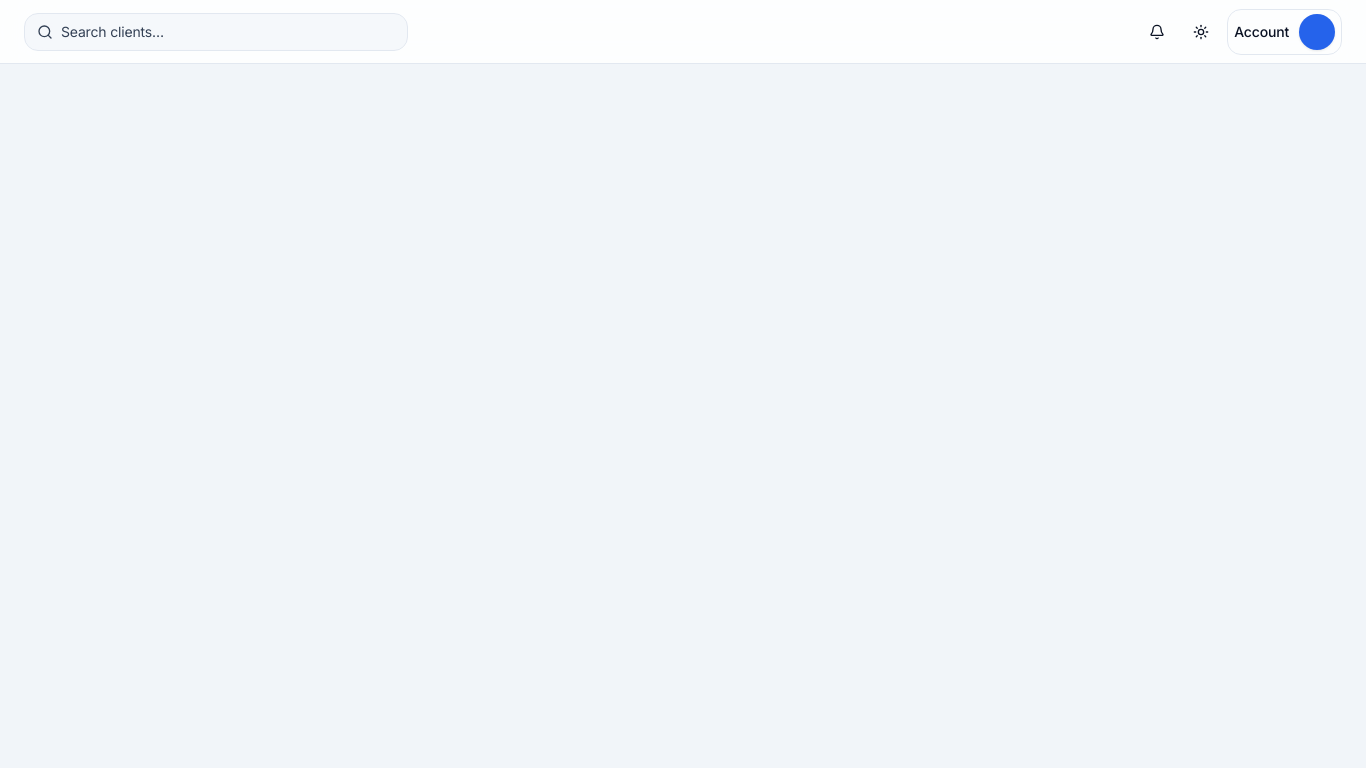
Test: mobile Account control › truthfully handles an absent email () without inventing an identity
Click the button "Account" at (1285, 32), box [1227, 8, 1342, 54]
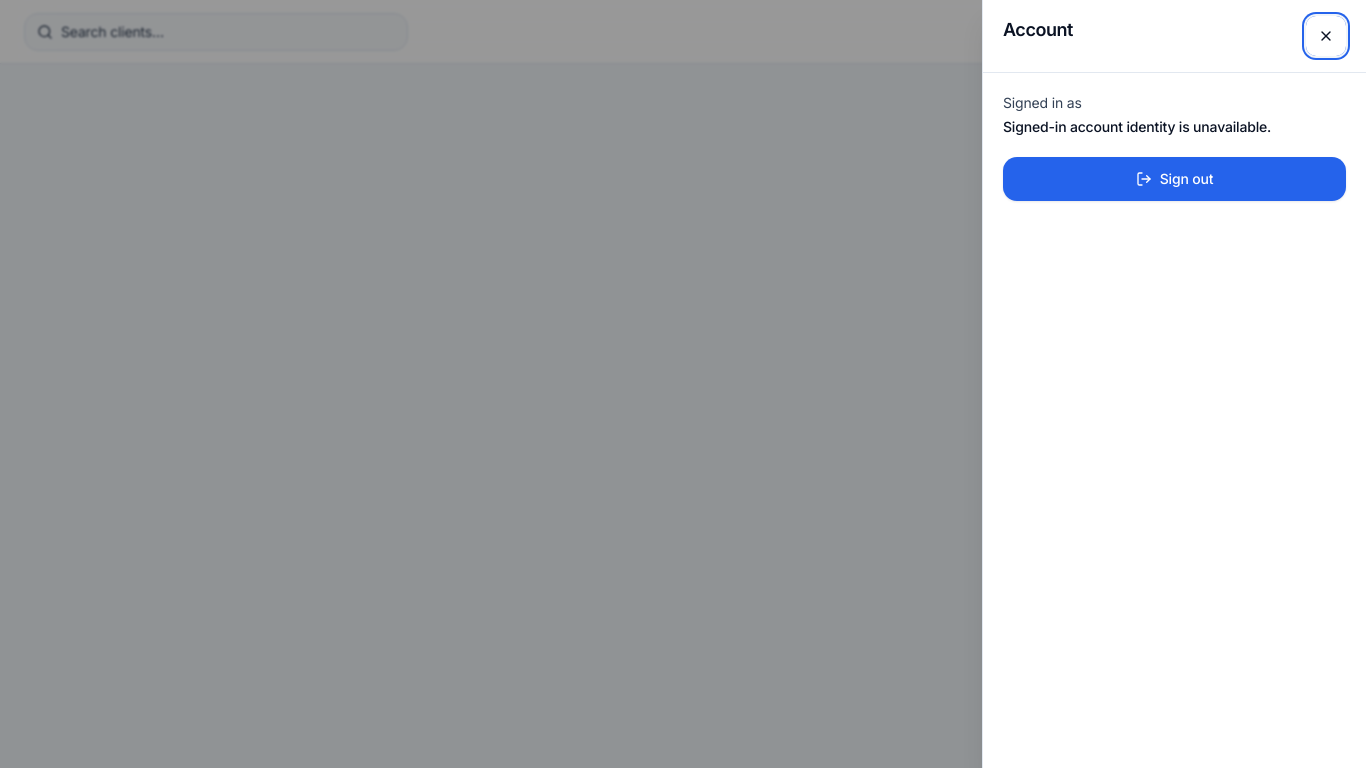
Check: the text "Signed-in account identity is unavailable." is shown, box [1003, 118, 1271, 135]
Check: the button "Sign out" is shown, box [1003, 157, 1346, 201]
